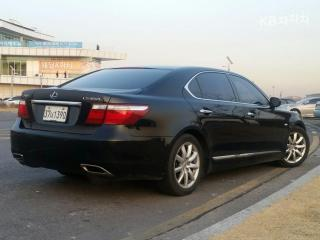0: (63, 111, 66, 120)
1: (54, 110, 57, 119)
3: (44, 109, 48, 118), (57, 110, 60, 119)
7: (47, 110, 51, 118)
9: (59, 111, 63, 119)
너: (51, 112, 54, 118)
